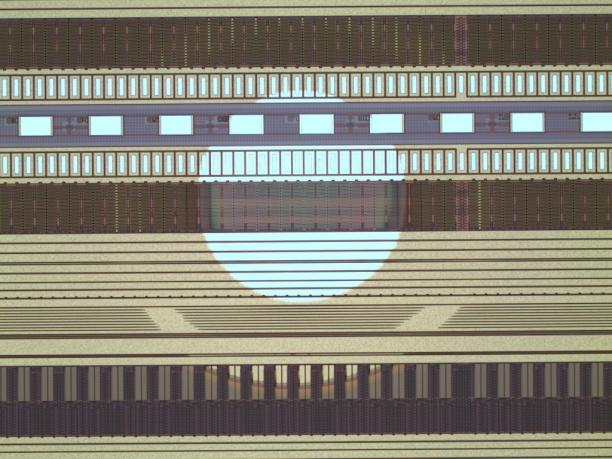BLOCK ETCH: (100, 1, 504, 389)
